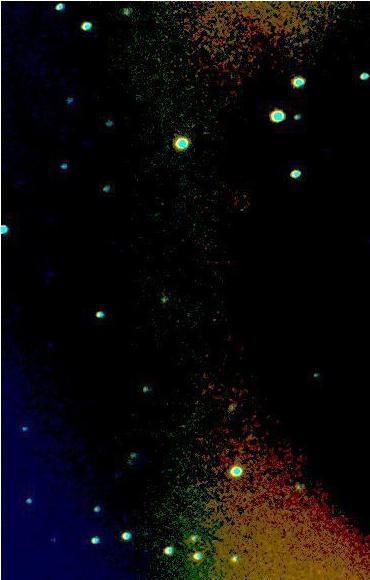star: (301, 90, 331, 120)
